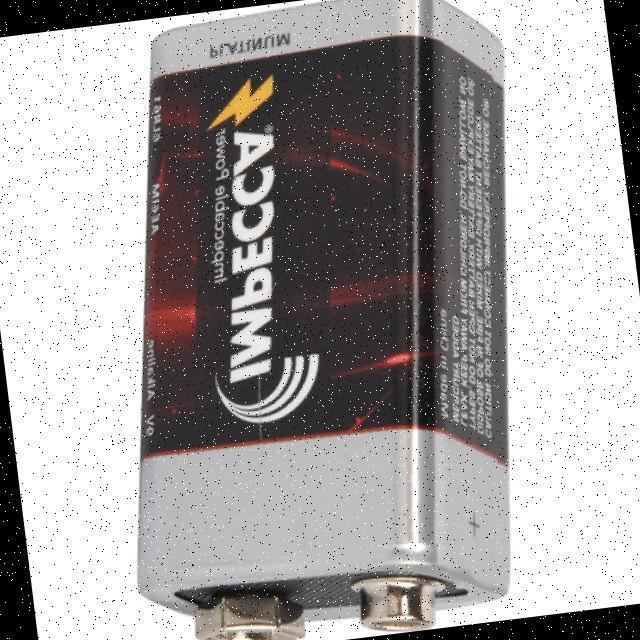9V: (136, 0, 510, 629)
